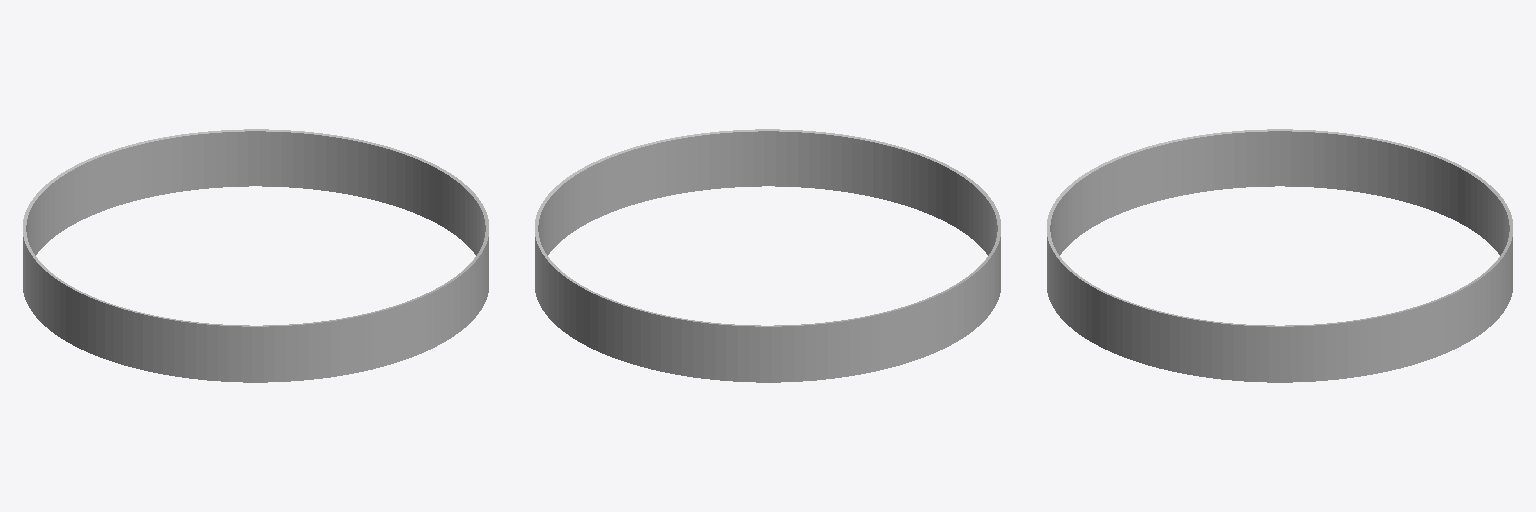
The model's file is pizza_ring.obj.
3 views of the same model, side by side, from view 1: azimuth 30°, elevation 25°; view 2: azimuth 150°, elevation 25°; view 3: azimuth 270°, elevation 25° (orthographic).
Parts seen in each view (by area): view 1: Cylinder; view 2: Cylinder; view 3: Cylinder.
Part boxes in pixels (x1,y1,x2,y2): Cylinder: (23,129,488,382); Cylinder: (535,129,1000,382); Cylinder: (1047,129,1512,382).
Size of the model in its own units: 7.04 by 0.9308 by 7.04.